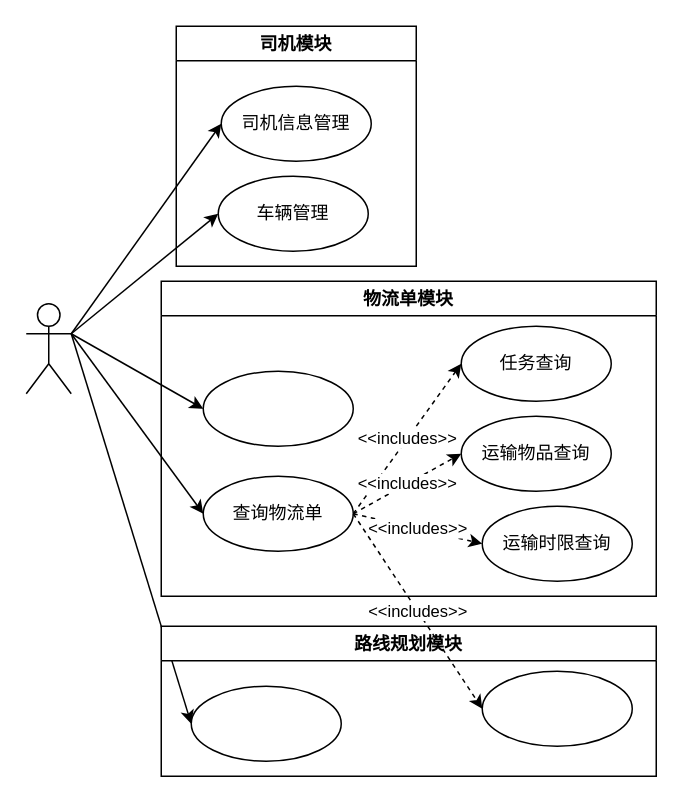
Some shapes in this 683 by 803 pixel diagram are drawn without their labels. The centre of each missing label's shape, as x and y in pixels:
"司机" goes at point 48,348.
"排单查询" goes at point 265,723.
"物流接单" goes at point 277,408.
"路径查询" goes at point 556,708.
